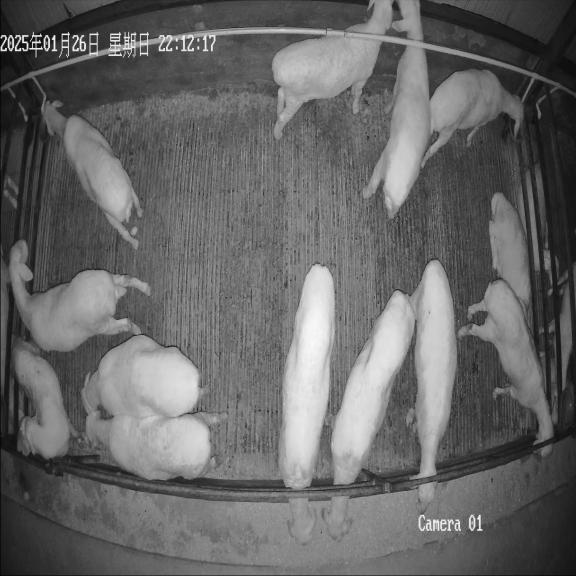drinking: (41, 100, 143, 250), (421, 69, 523, 168)
eating: (323, 290, 415, 540), (279, 264, 335, 544), (406, 260, 457, 512)
lying: (489, 192, 531, 314)
stand: (458, 279, 554, 457), (272, 0, 394, 140), (8, 240, 150, 352), (362, 0, 431, 218), (82, 334, 204, 419), (86, 410, 228, 480), (12, 341, 80, 459)
